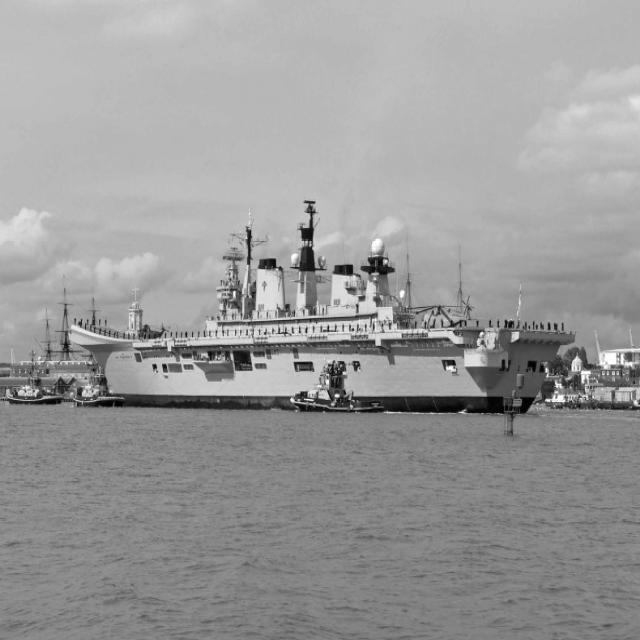Portanaves: (61, 195, 580, 428)
